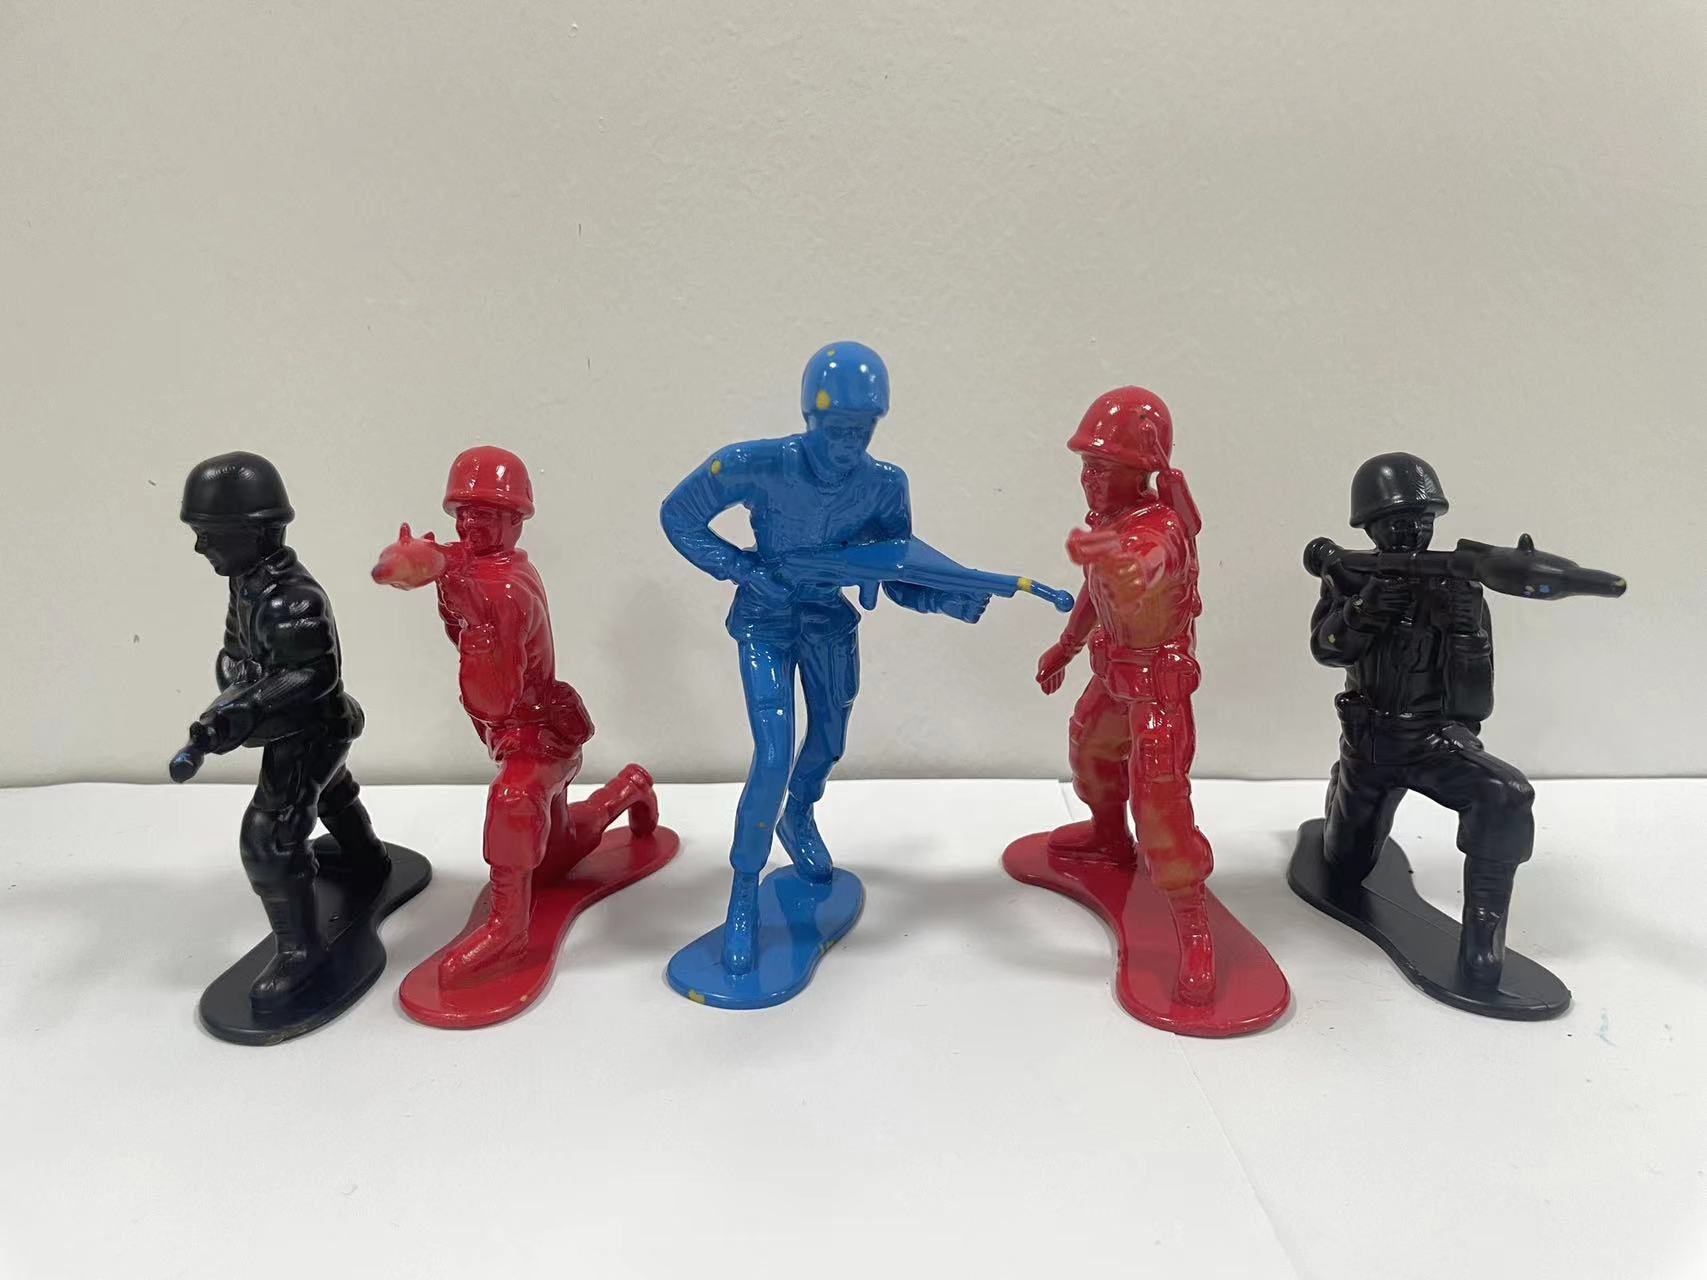black: (1276, 430, 1668, 1074), (109, 411, 430, 1053)
blue: (655, 331, 1026, 1053)
red: (1001, 370, 1308, 1074), (379, 424, 681, 1050)
